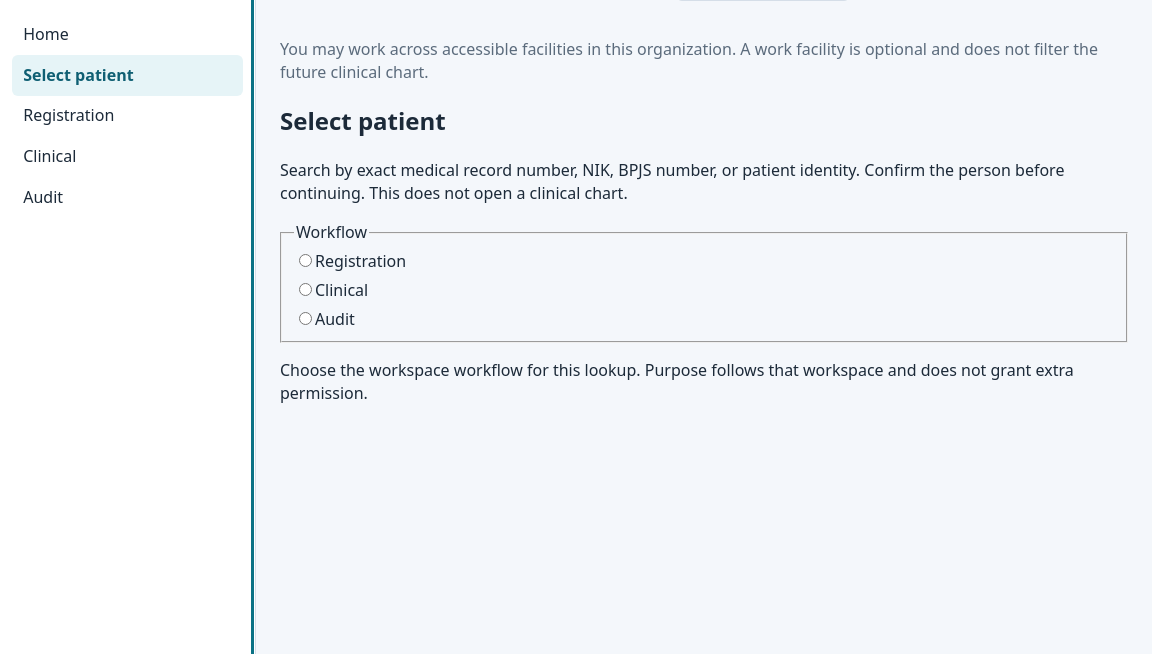
patient lookup hardening › requires an explicit workflow on the generic route and maps it to catalog purpose
This screenshot has width=1152, height=654.
Click the radio button labelled "Clinical" at [306, 289], box [299,283,312,296]
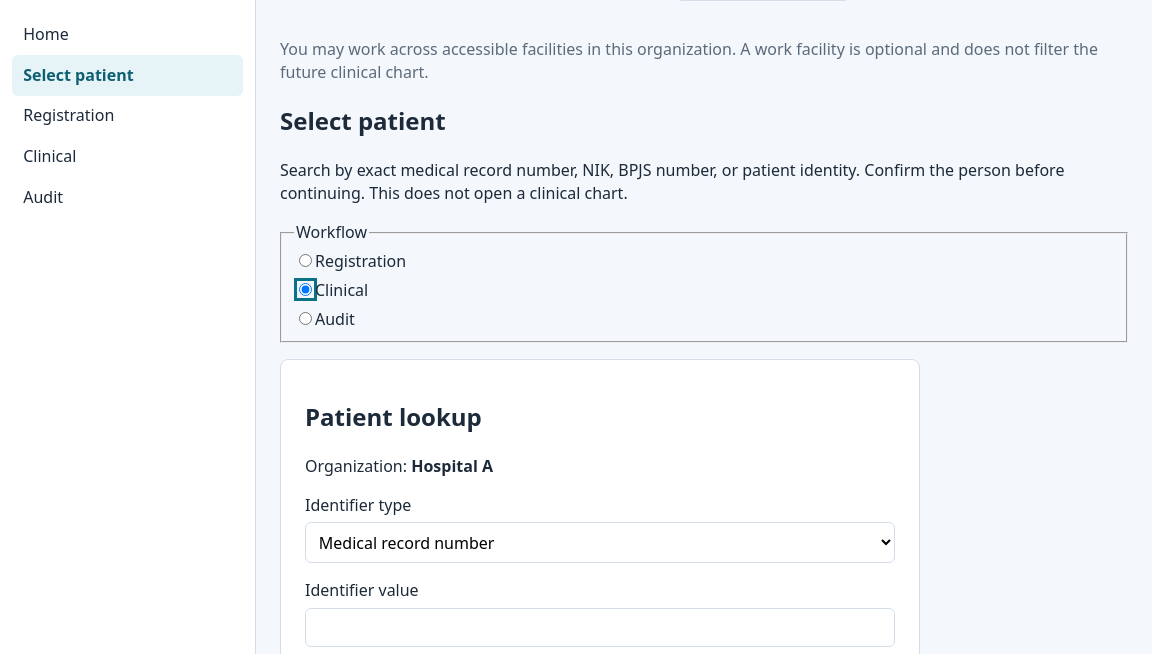
Type "MRN-HARDEN-0001" into the field labelled "Identifier value" at [600, 627], box [305,608,895,647]
(page scrolled)
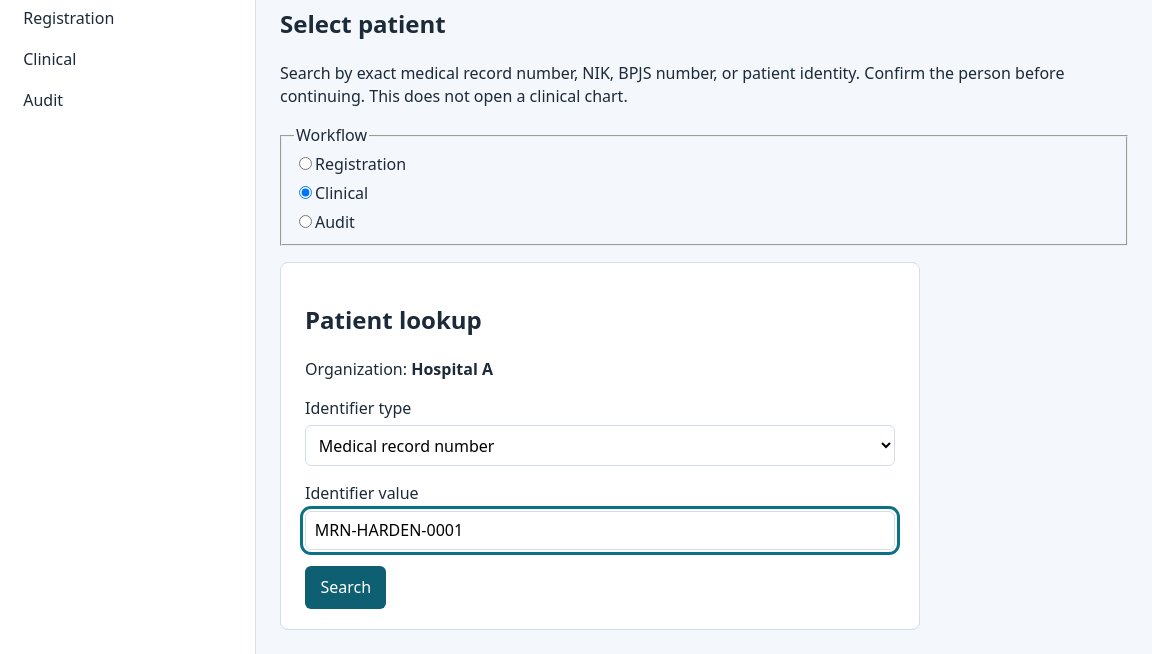
Click the button "Search" at [346, 588], box [305,566,386,609]
(page scrolled)
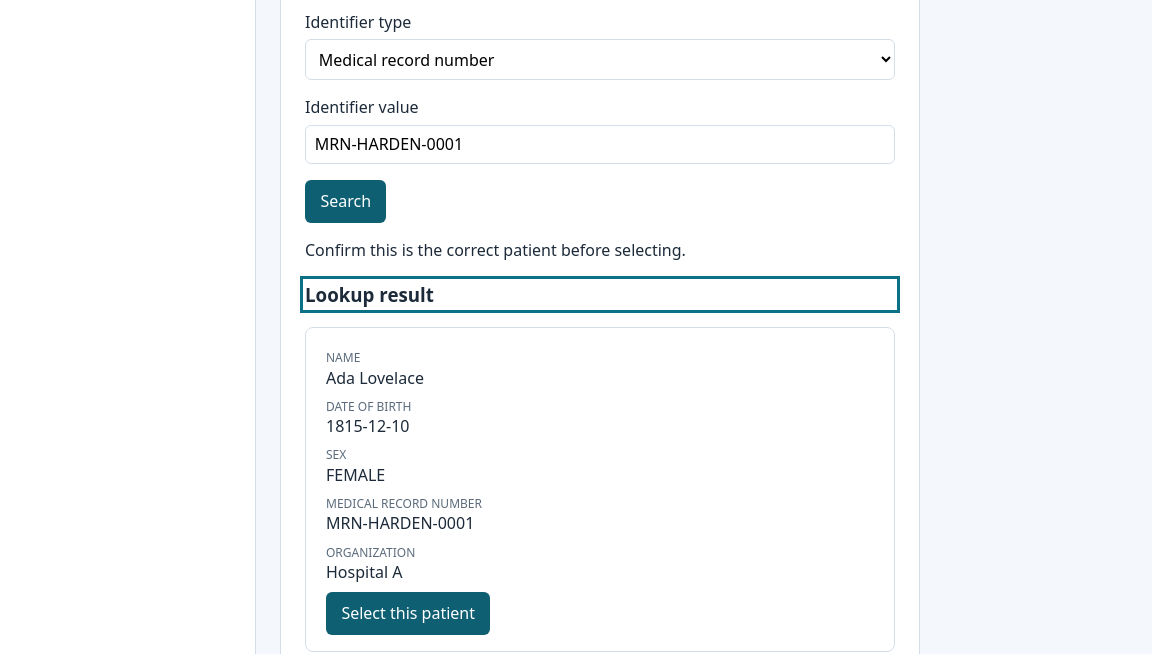
Now the element with test id "patient-confirmation-card" is shown, box [305,327,895,652]
